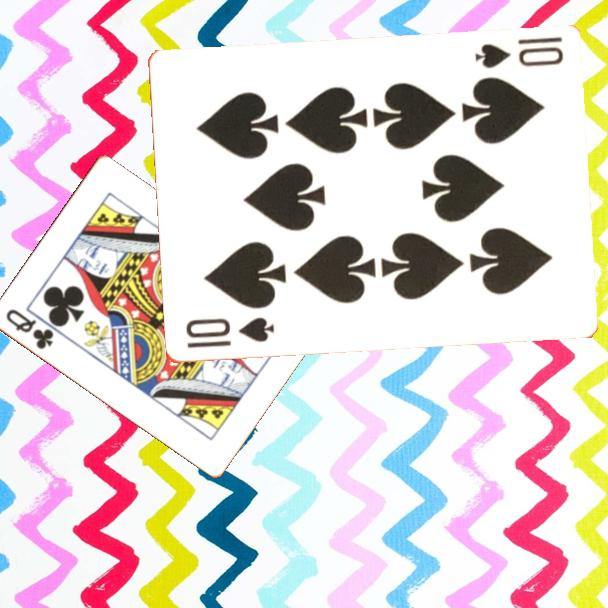c12: (2, 305, 56, 352)
s10: (471, 33, 566, 72), (181, 314, 277, 352)
